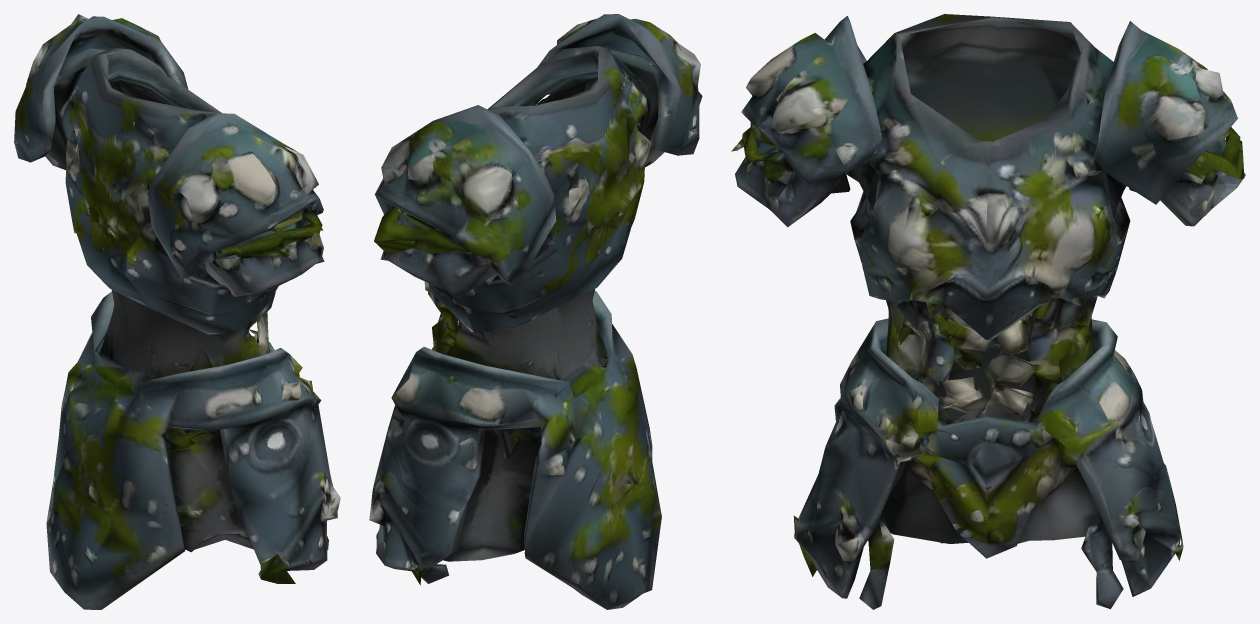
3 views of the same model, side by side, from view 1: azimuth 30°, elevation 25°; view 2: azimuth 150°, elevation 25°; view 3: azimuth 270°, elevation 25° (orthographic). The views are drawn at different scales.
Parts seen in each view (by area): view 1: tripo_node_9343f61e-61af-4ae3-9cec-4b9d5337952d; view 2: tripo_node_9343f61e-61af-4ae3-9cec-4b9d5337952d; view 3: tripo_node_9343f61e-61af-4ae3-9cec-4b9d5337952d.
Part boxes in pixels (x1,y1,x2,y2): tripo_node_9343f61e-61af-4ae3-9cec-4b9d5337952d: (14, 14, 340, 609); tripo_node_9343f61e-61af-4ae3-9cec-4b9d5337952d: (369, 14, 702, 609); tripo_node_9343f61e-61af-4ae3-9cec-4b9d5337952d: (731, 14, 1245, 609).
Bounding box in the file's own units: 0.4469 × 0.9976 × 0.8228.
Materials: 1 (1 with a texture image).
